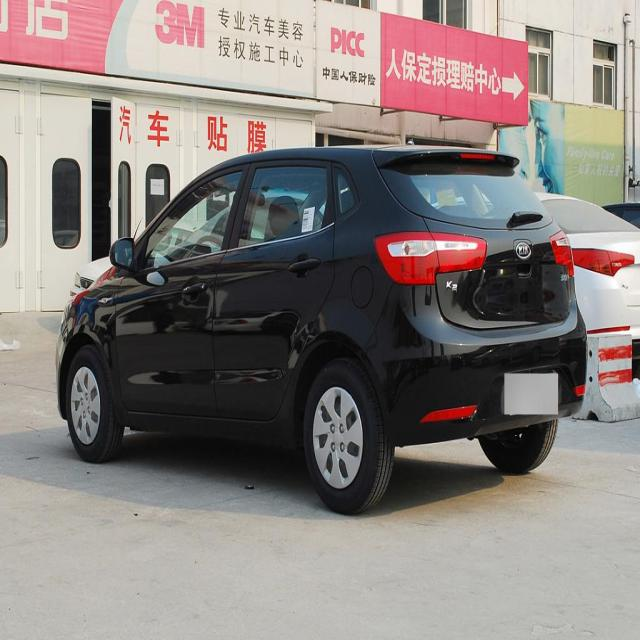back_glass: (380, 162, 552, 231)
back_left_side_light: (374, 231, 488, 286)
back_right_side_light: (549, 229, 574, 277)
door: (218, 150, 342, 414)
front_left_side_door: (112, 158, 252, 420)
front_left_side_mirror: (110, 234, 136, 271)
rear_bumper: (360, 281, 587, 444)
wheel: (302, 358, 388, 516), (66, 346, 123, 463), (476, 418, 557, 475)
